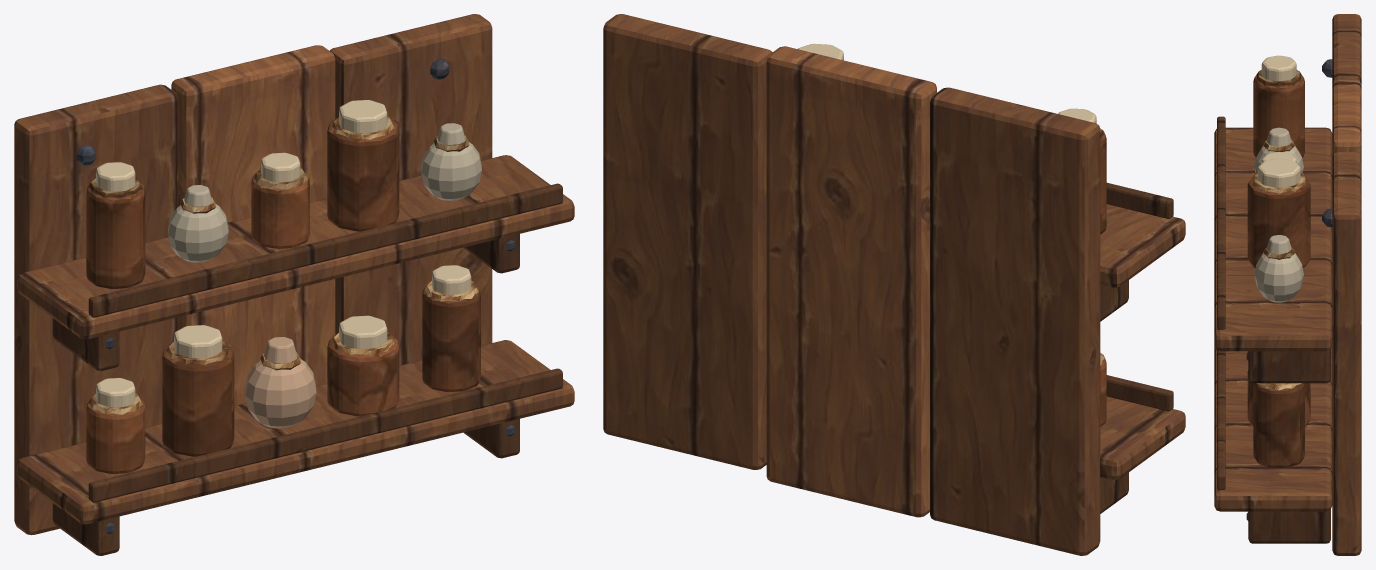
The model's file is spice_shelf.glb.
3 views of the same model, side by side, from view 1: azimuth 30°, elevation 25°; view 2: azimuth 150°, elevation 25°; view 3: azimuth 270°, elevation 25° (orthographic). The views are drawn at different scales.
Visible parts, largest first — view 1: model; view 2: model; view 3: model.
Part boxes in pixels (left/top/right/bottom): model: left=14, top=14, right=574, bottom=555; model: left=603, top=14, right=1185, bottom=555; model: left=1214, top=14, right=1361, bottom=555.
Size of the model in its own units: 0.84 by 0.6669 by 0.25.
12 materials, 9 textured.
